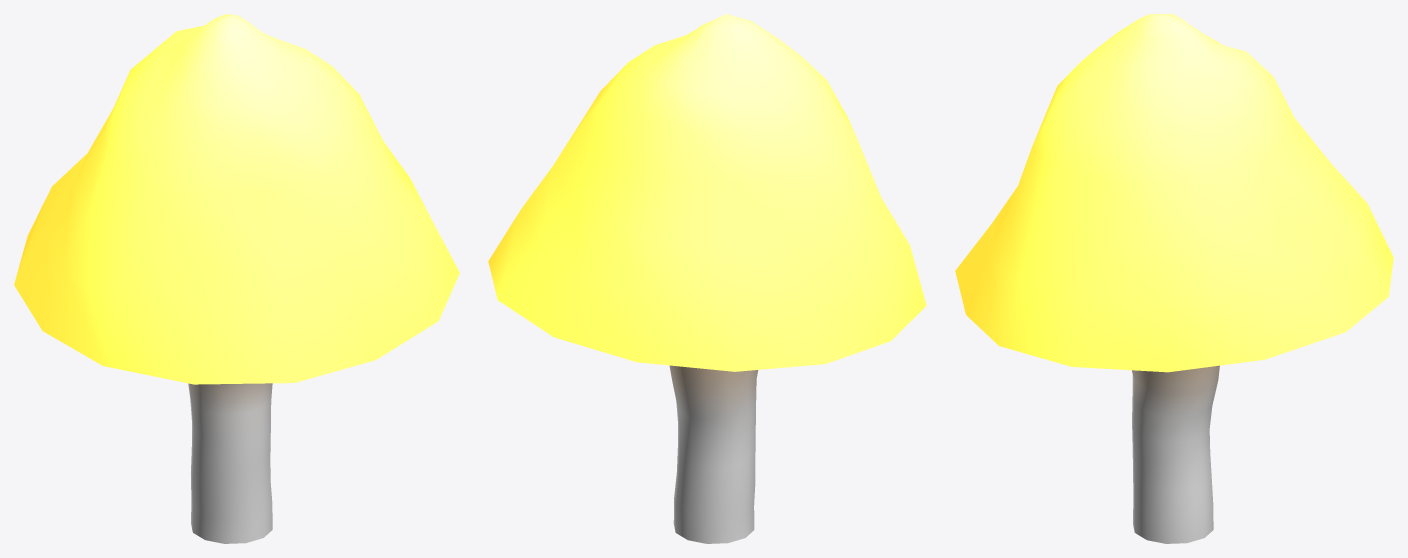
File: mushroom_8.glb
3 views of the same model, side by side, from view 1: azimuth 30°, elevation 25°; view 2: azimuth 150°, elevation 25°; view 3: azimuth 270°, elevation 25° (orthographic).
Parts seen in each view (by area): view 1: geo1; view 2: geo1; view 3: geo1.
Part boxes in pixels (x1,y1,x2,y2): geo1: [14, 14, 459, 543]; geo1: [488, 14, 926, 543]; geo1: [955, 14, 1393, 543].
Bounding box in the file's own units: 0.2429 × 0.3205 × 0.2503.
